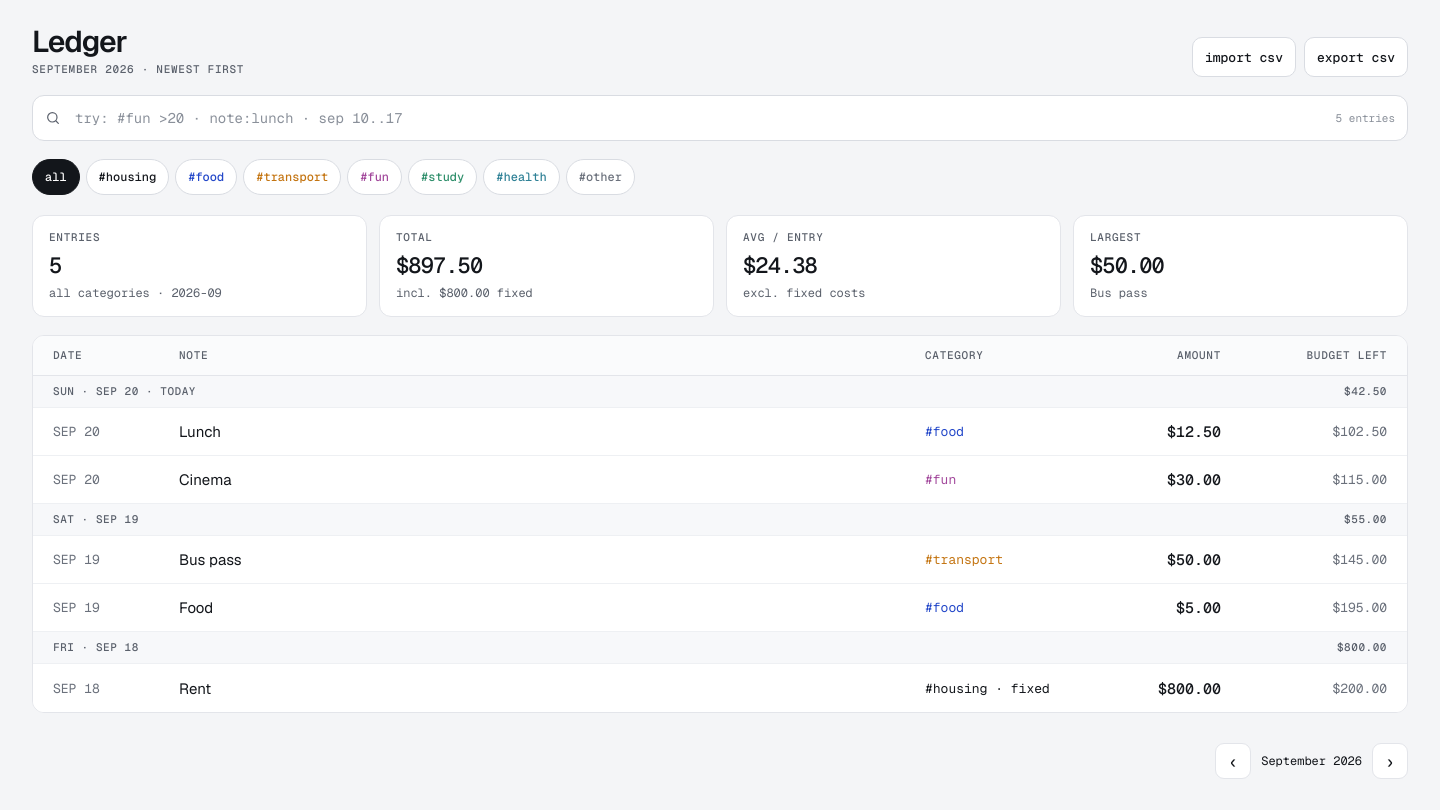
Scenario: toggles a category and resets it with the all chip
Click the button with aria-label "Filter Food".
click(206, 177)  # box [175,159,237,195]
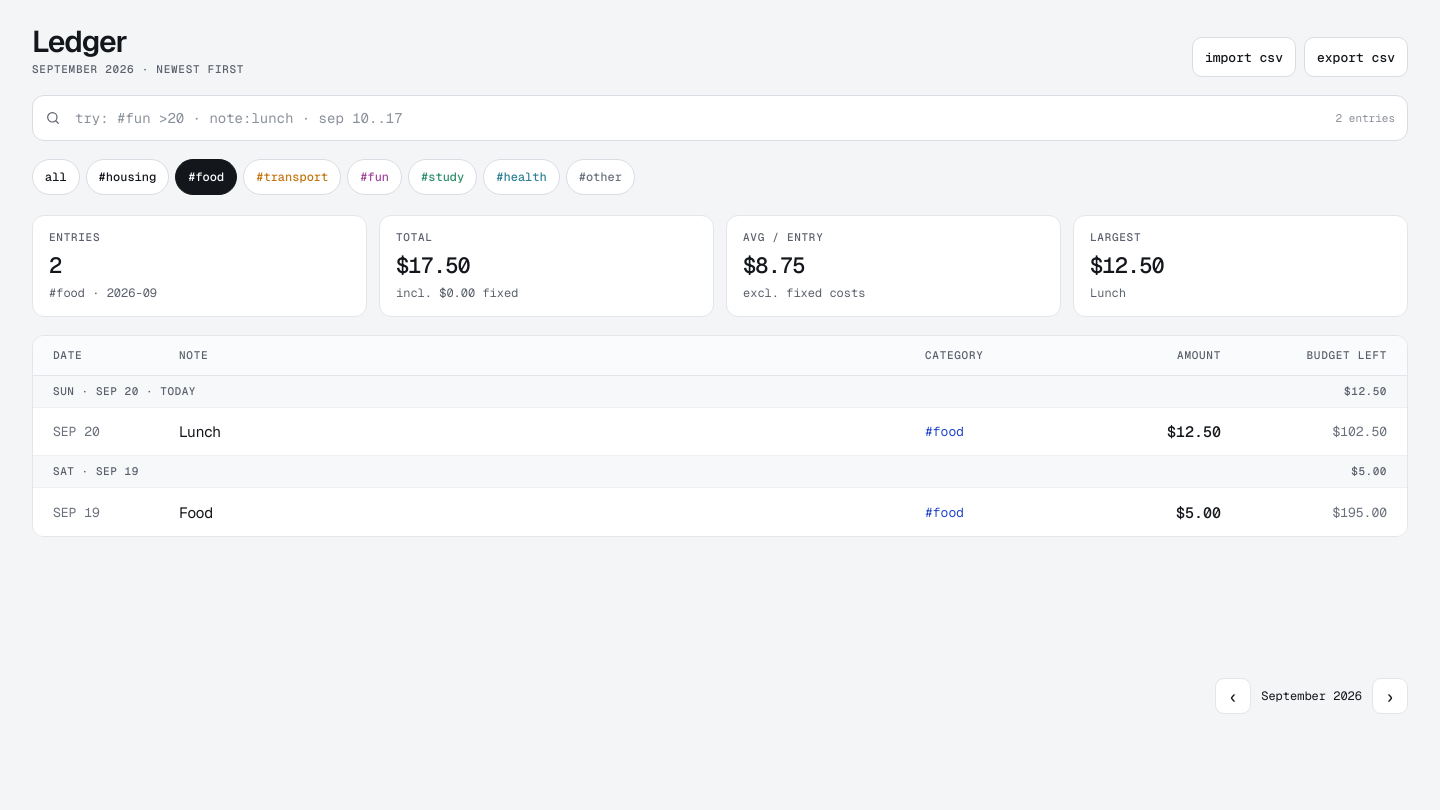
Check: the text "2 entries" is shown, box [1336,111,1395,125]
Click the button with aria-label "Filter Food".
click(206, 177)  # box [175,159,237,195]
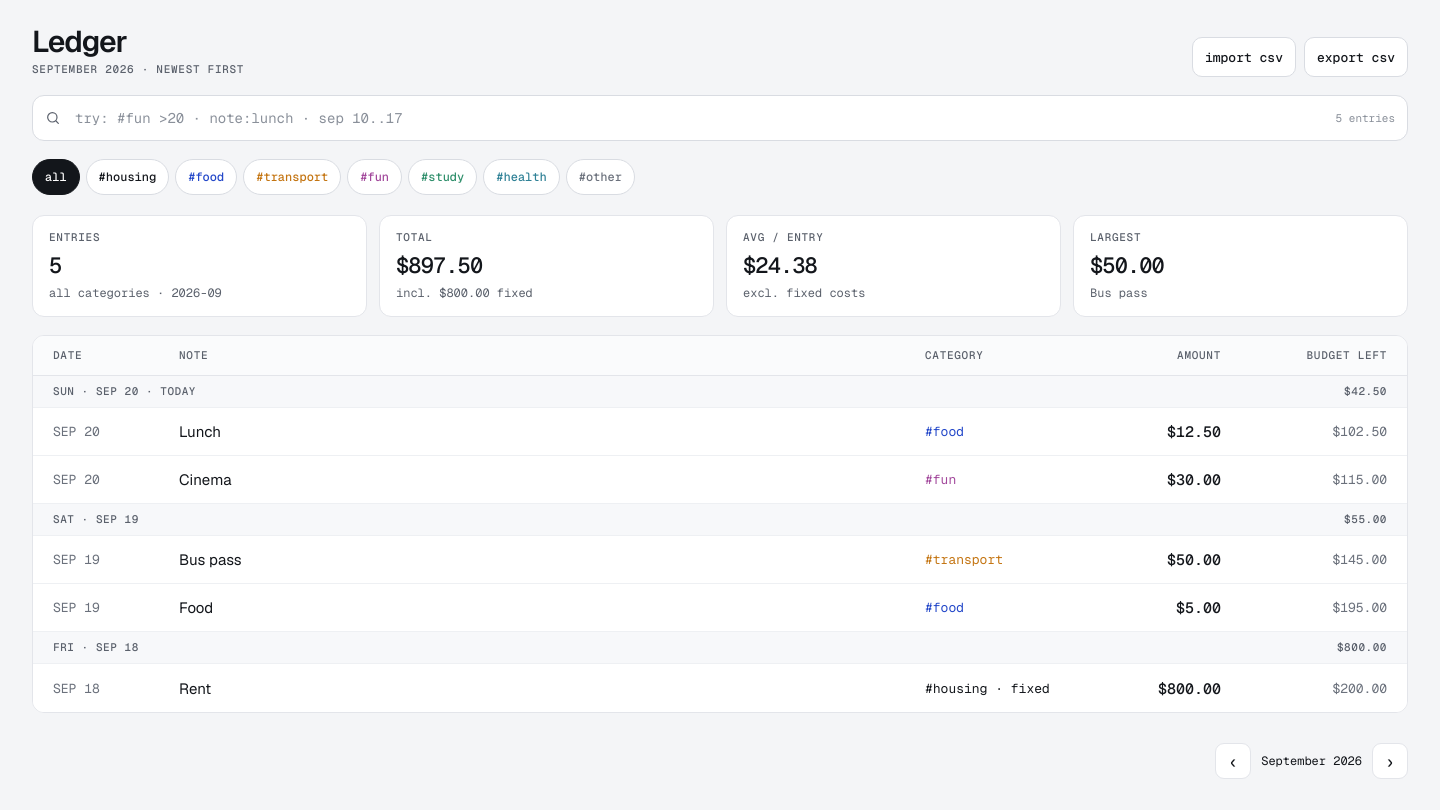
Check: the text "5 entries" is shown, box [1336,111,1395,125]
Click the button with aria-label "Filter Food".
click(206, 177)  # box [175,159,237,195]
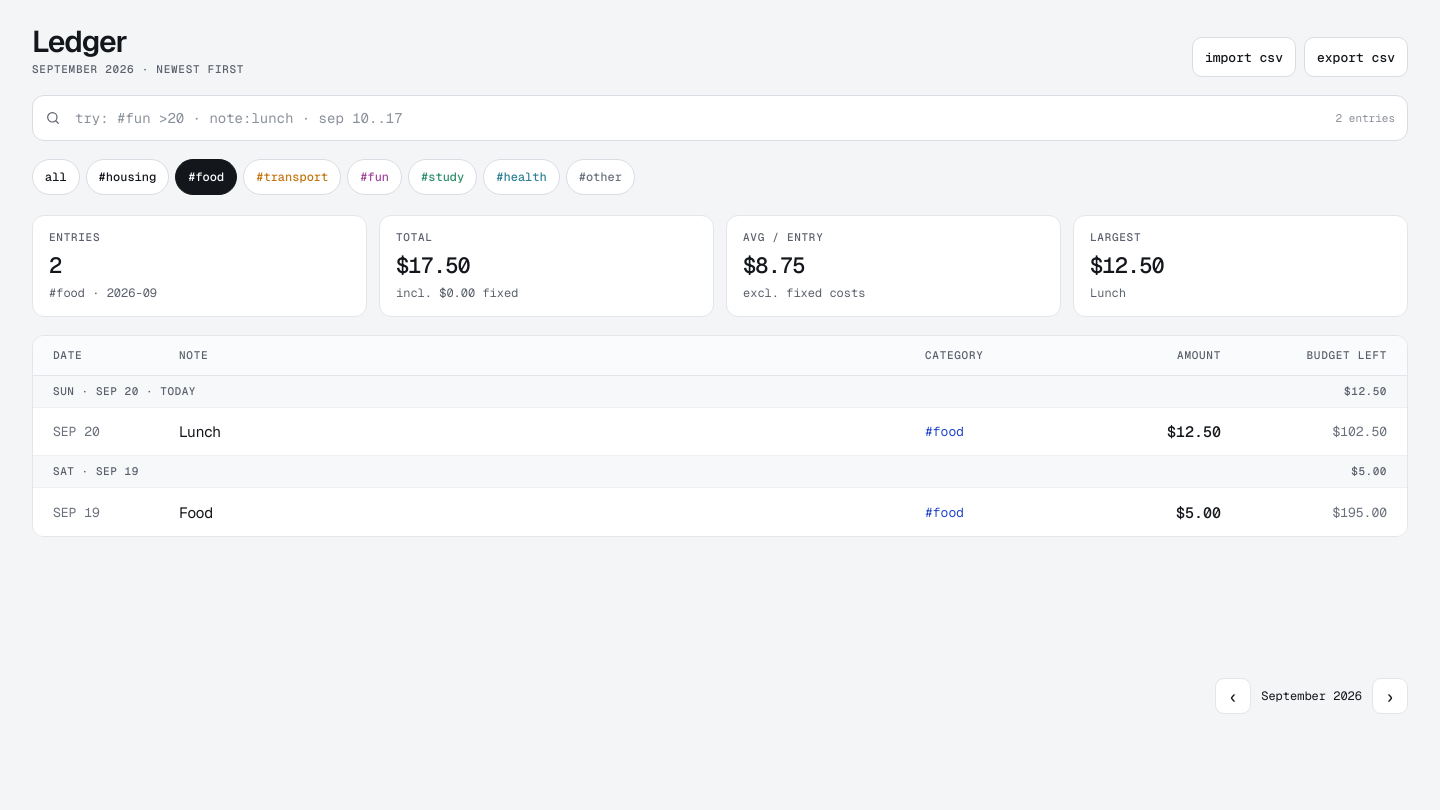
Click the button with aria-label "Clear filter".
click(56, 177)  # box [32,159,80,195]
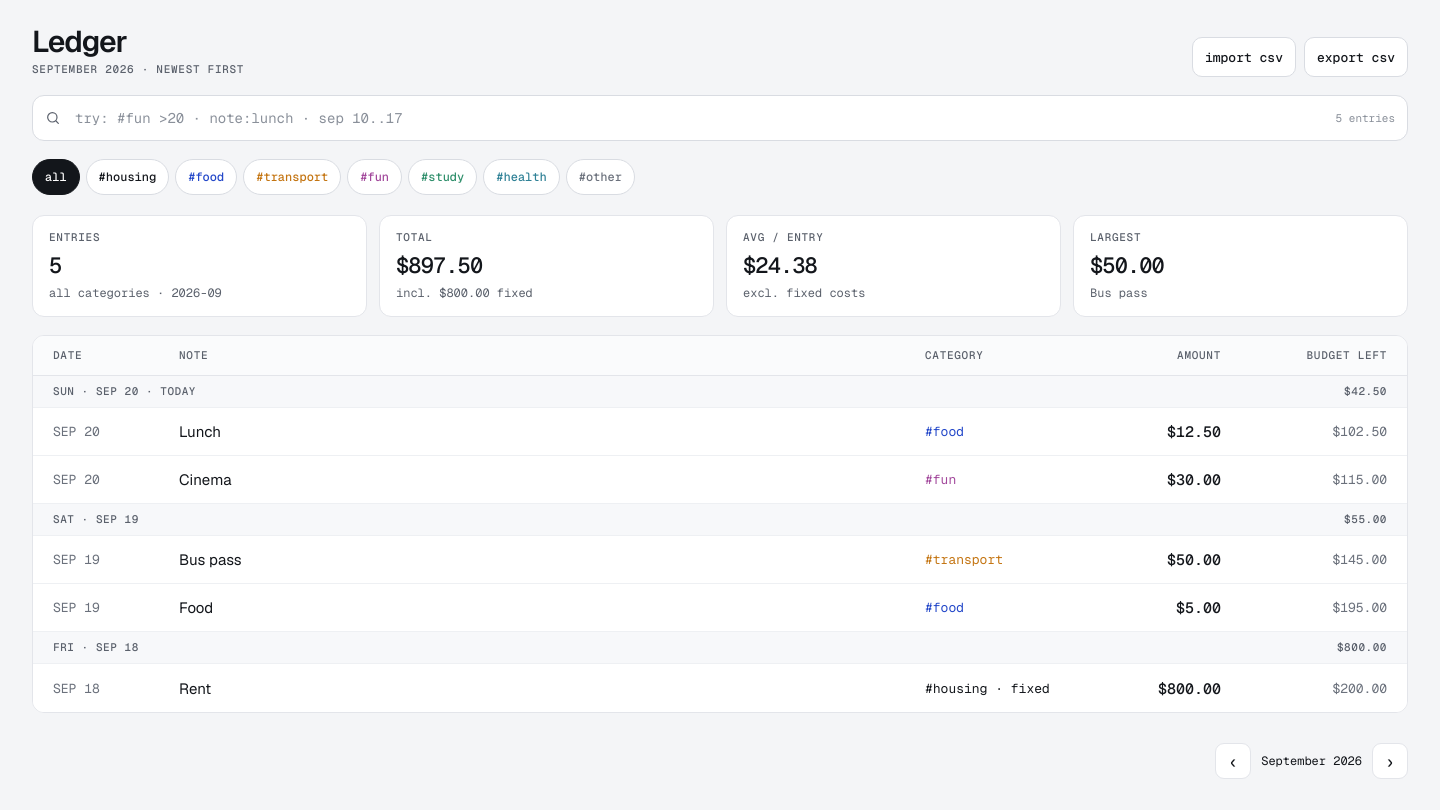
Check: the text "5 entries" is shown, box [1336,111,1395,125]
